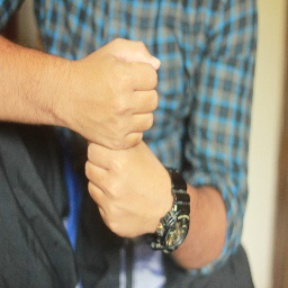G: (80, 34, 176, 240)
